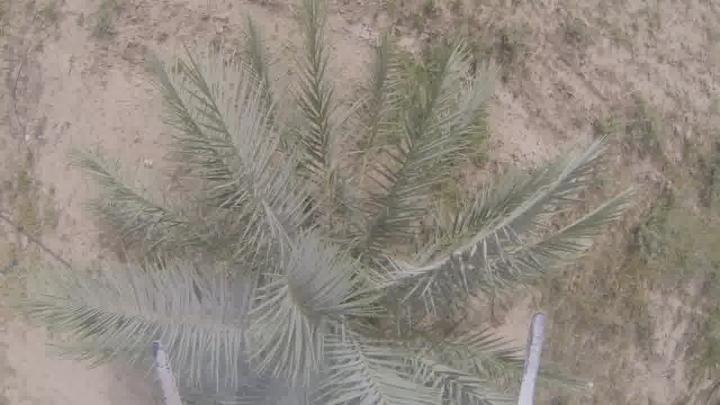Date-Palm-Crown: (203, 155, 471, 404)
